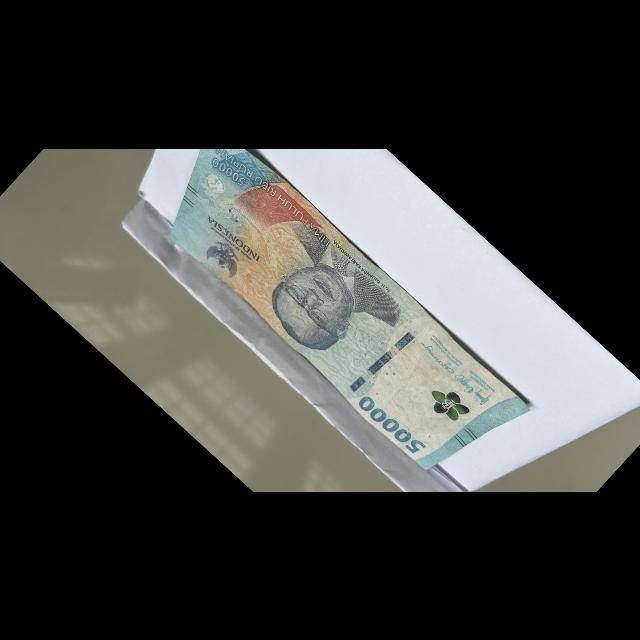Palsu-50k: (164, 144, 534, 500)
Tinta-Palsu-50k: (422, 379, 474, 429)
